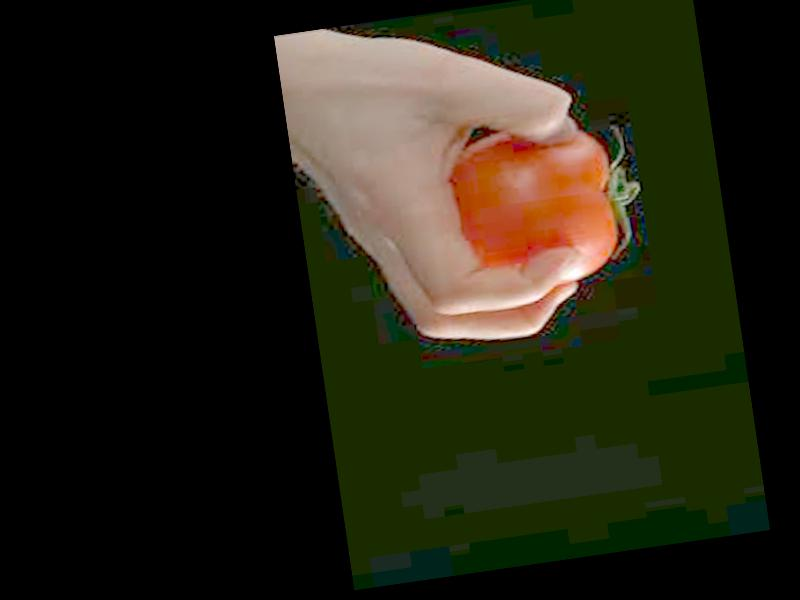Tomato: (450, 115, 648, 294)
